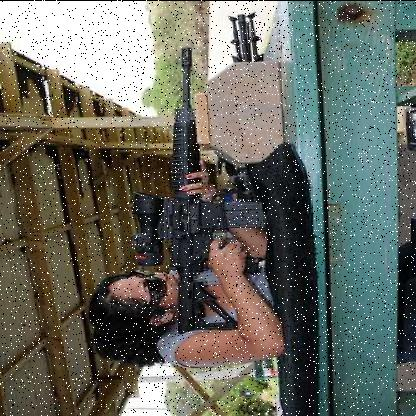rifle: (96, 25, 297, 338)
